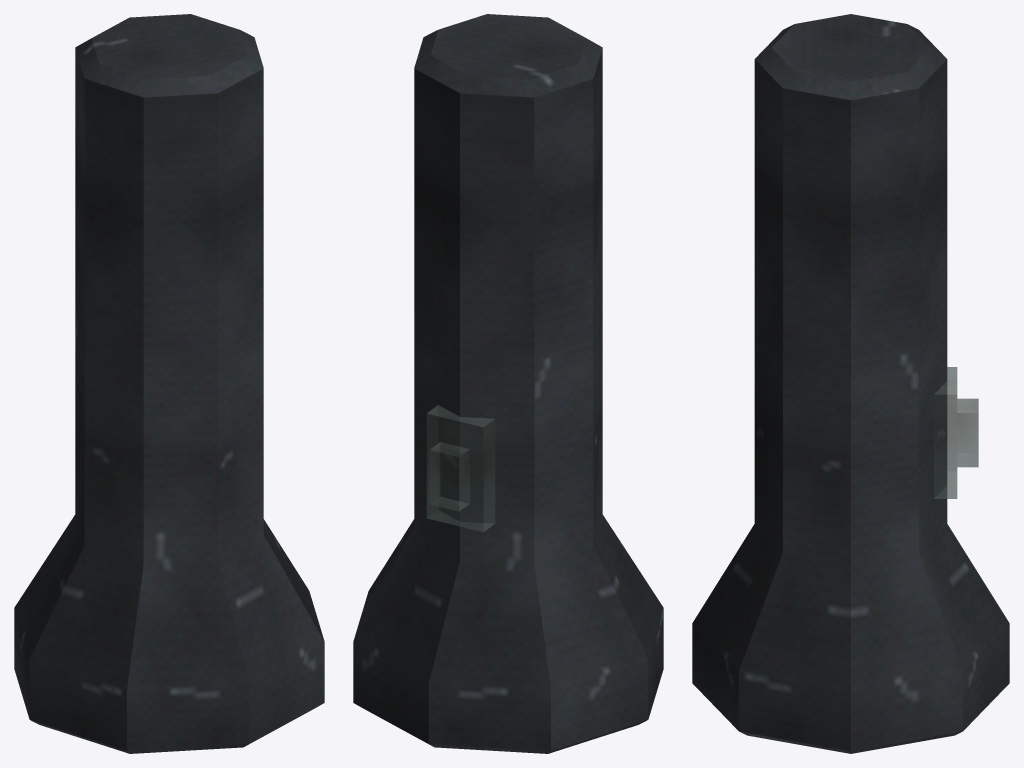
File: Flashlight01.fbx
3 renders of one model, left to right at view 1: azimuth 30°, elevation 25°; view 2: azimuth 150°, elevation 25°; view 3: azimuth 270°, elevation 25°, orthographic.
Visible parts, largest first — view 1: Flashlight.002; view 2: Flashlight.002, Flashlight.001; view 3: Flashlight.002, Flashlight.001.
Boxes of the visible parts, x1=… form: Flashlight.002: x1=14, y1=14, x2=324, y2=753; Flashlight.002: x1=353, y1=14, x2=663, y2=753; Flashlight.001: x1=426, y1=405, x2=495, y2=532; Flashlight.002: x1=692, y1=14, x2=1009, y2=753; Flashlight.001: x1=934, y1=367, x2=978, y2=498.
Size of the model in its own units: 0.118 by 0.2607 by 0.1165.
Materials: 2 (2 with a texture image).
